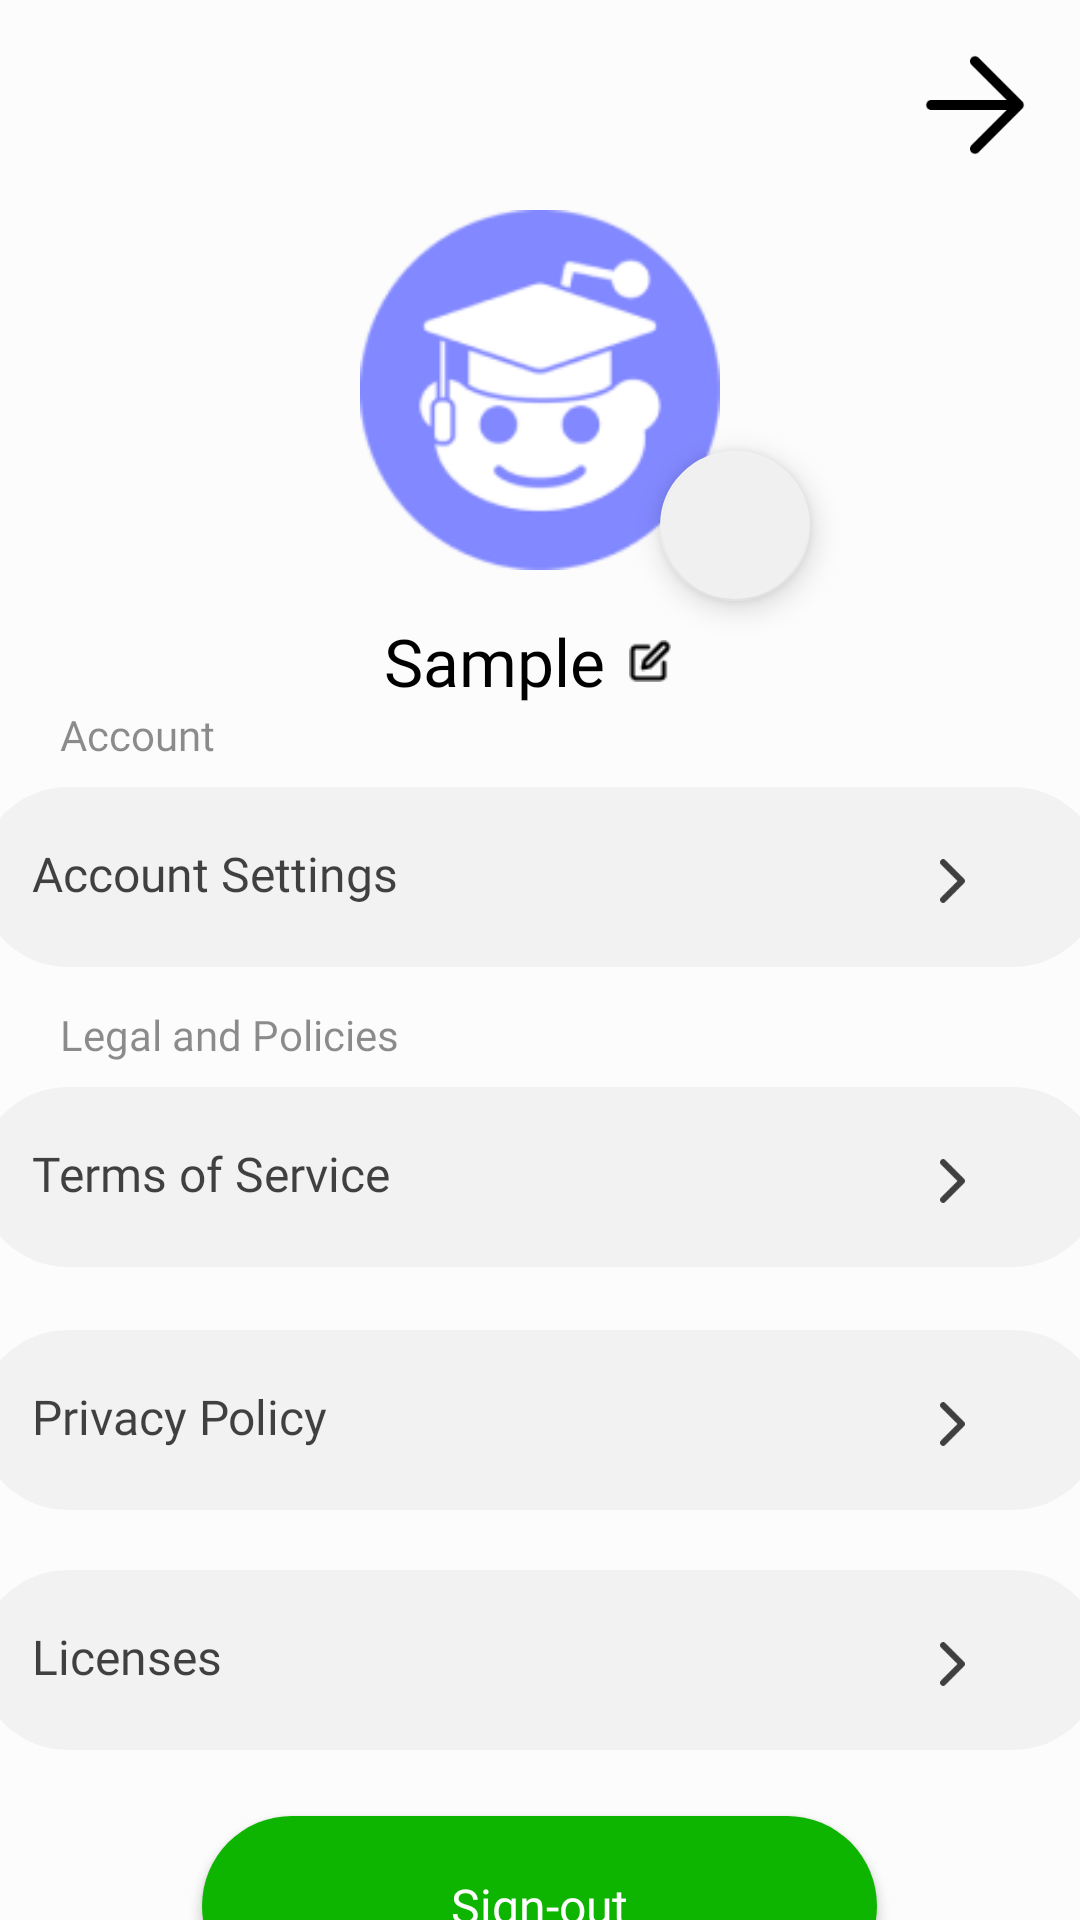

Icon click points for this 1080px×1920px phone screenshot, format (x,y):
chevron right: (952,881), (952,1181), (952,1424), (952,1664)
edit: (650,661)
right arrow: (975,105)
